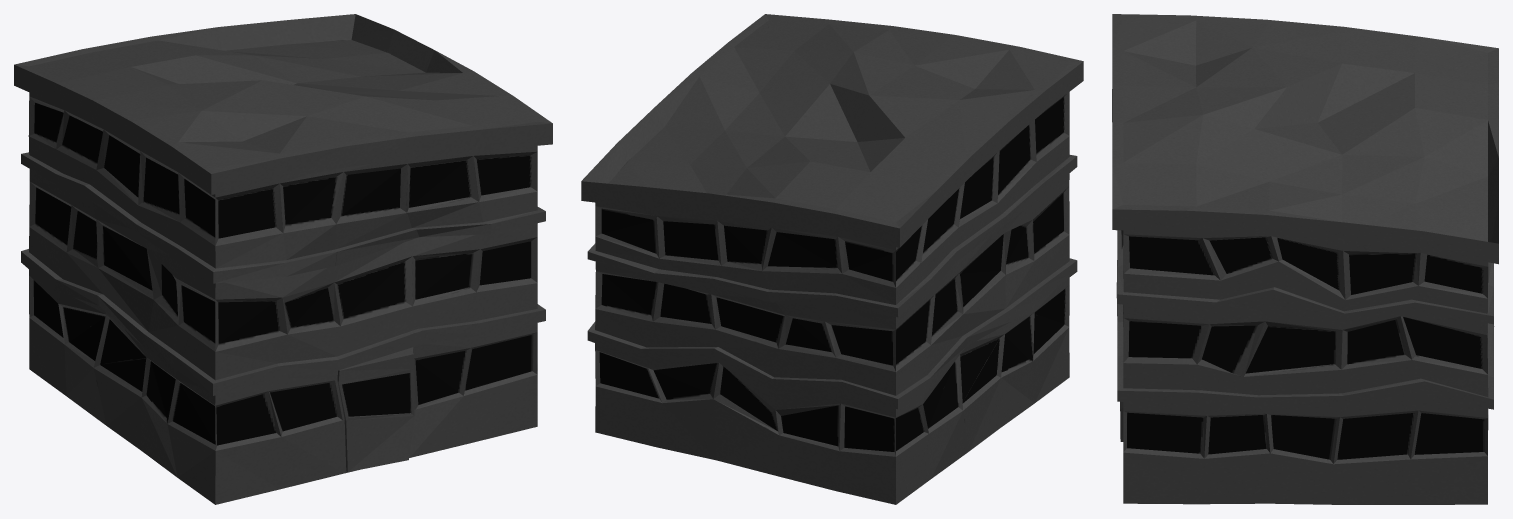
File: House.fbx
3 views of the same model, side by side, from view 1: azimuth 30°, elevation 25°; view 2: azimuth 150°, elevation 25°; view 3: azimuth 270°, elevation 25° (orthographic). The views are drawn at different scales.
Visible parts, largest first — view 1: Cube; view 2: Cube; view 3: Cube.
Part boxes in pixels (box(x1,y1,x2,y2)): Cube: box(14, 14, 552, 504); Cube: box(581, 14, 1083, 504); Cube: box(1112, 14, 1498, 504).
Size of the model in its own units: 1241 by 1177 by 1242.
